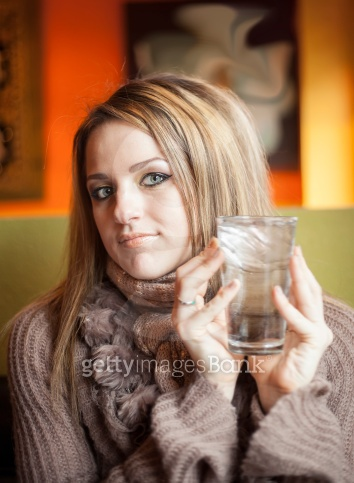glass of water: (217, 208, 303, 362)
